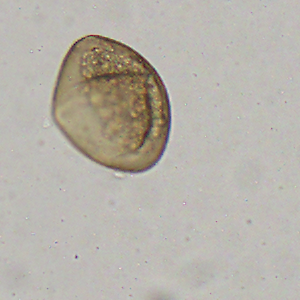Fasciola_hepatica_egg: (49, 33, 172, 174)
